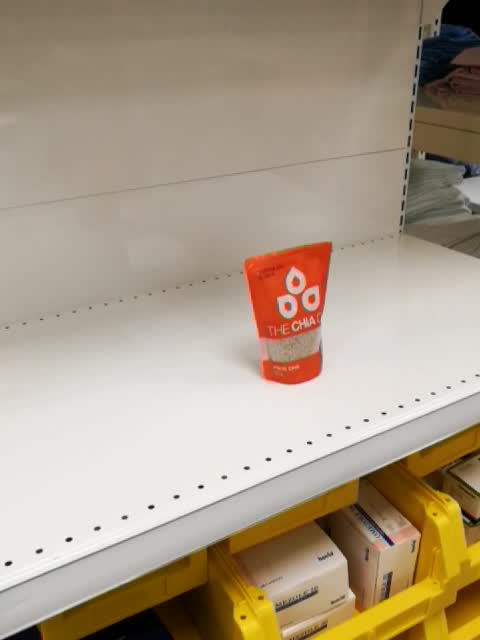whitechia: (241, 238, 335, 386)
